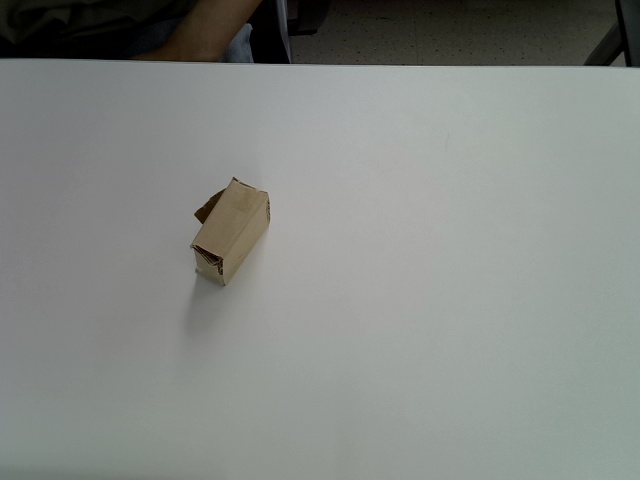defect: (190, 174, 272, 288)
